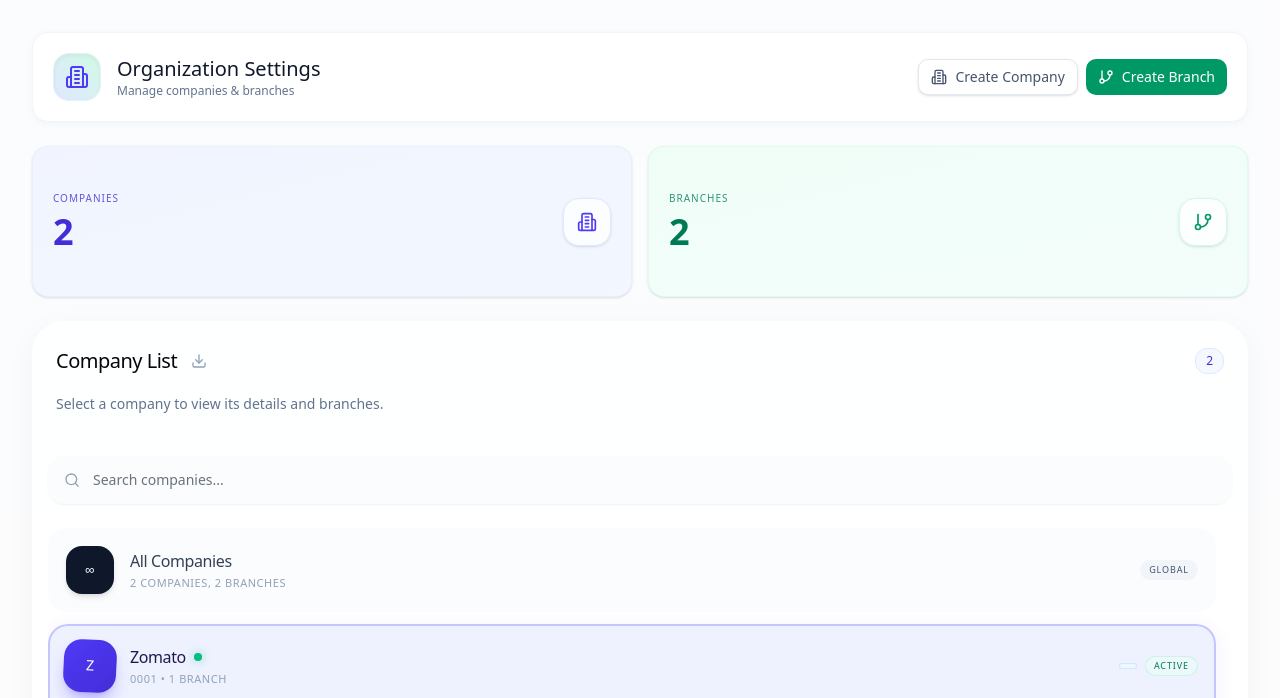
Test: OrganizationsPage organization selection › defaults to requiring approval and disables approver selection when switched off
This screenshot has width=1280, height=698.
Click the button "Create Company": (998, 77) [918,59,1078,95]
(page scrolled)
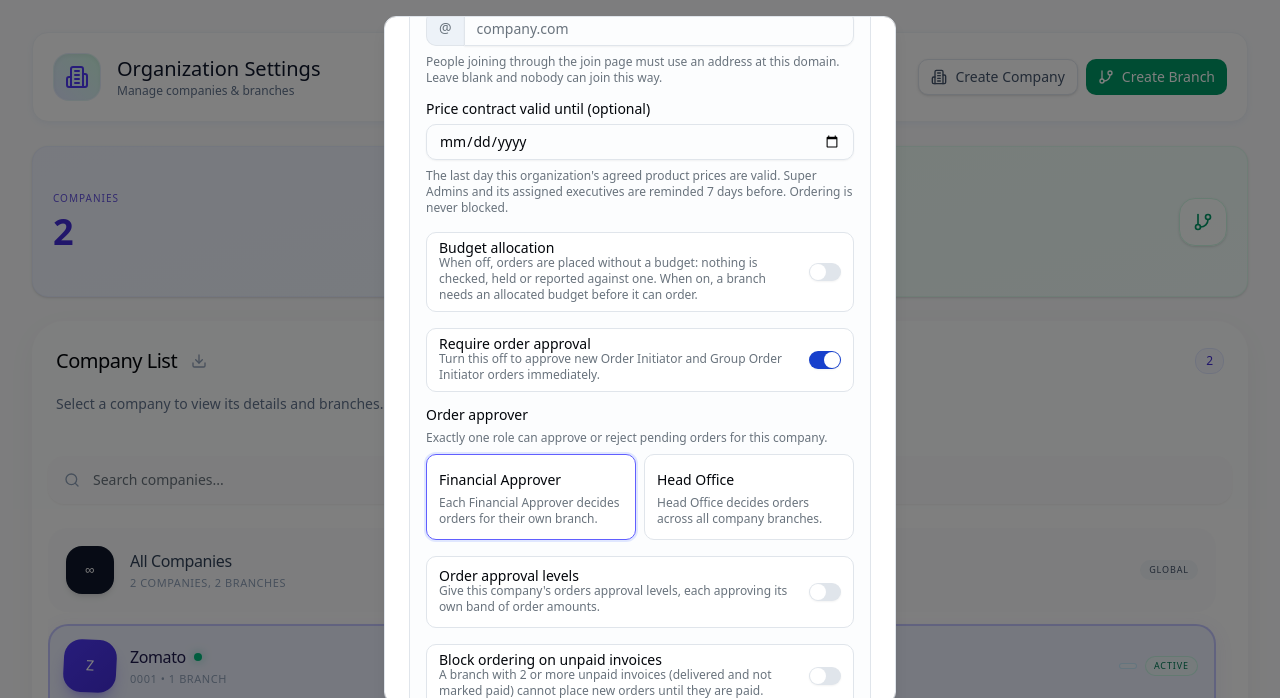
Click the switch named "Require order approval" in the row of "Require order approval": (825, 360) [809,351,841,369]
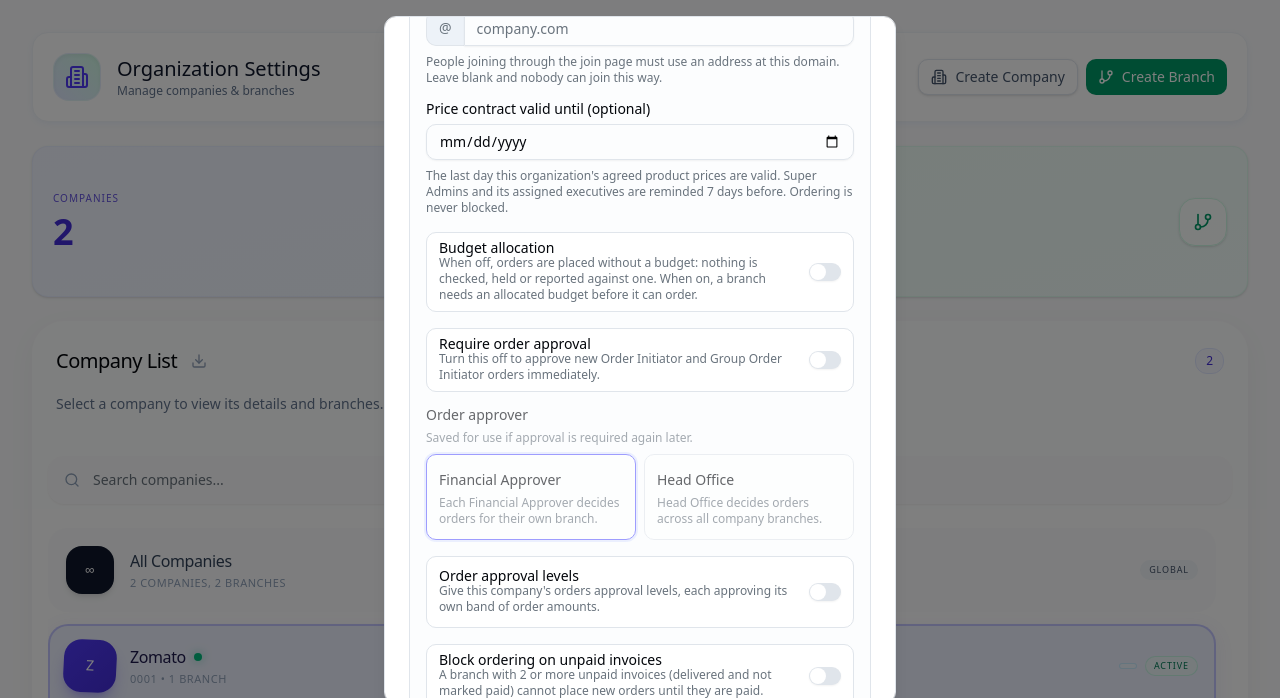
expect the button "Financial Approver" is disabled: met, box [426,454,636,540]
expect the text "Saved for use if approval is required again later." is shown: met, box [426,429,693,446]
